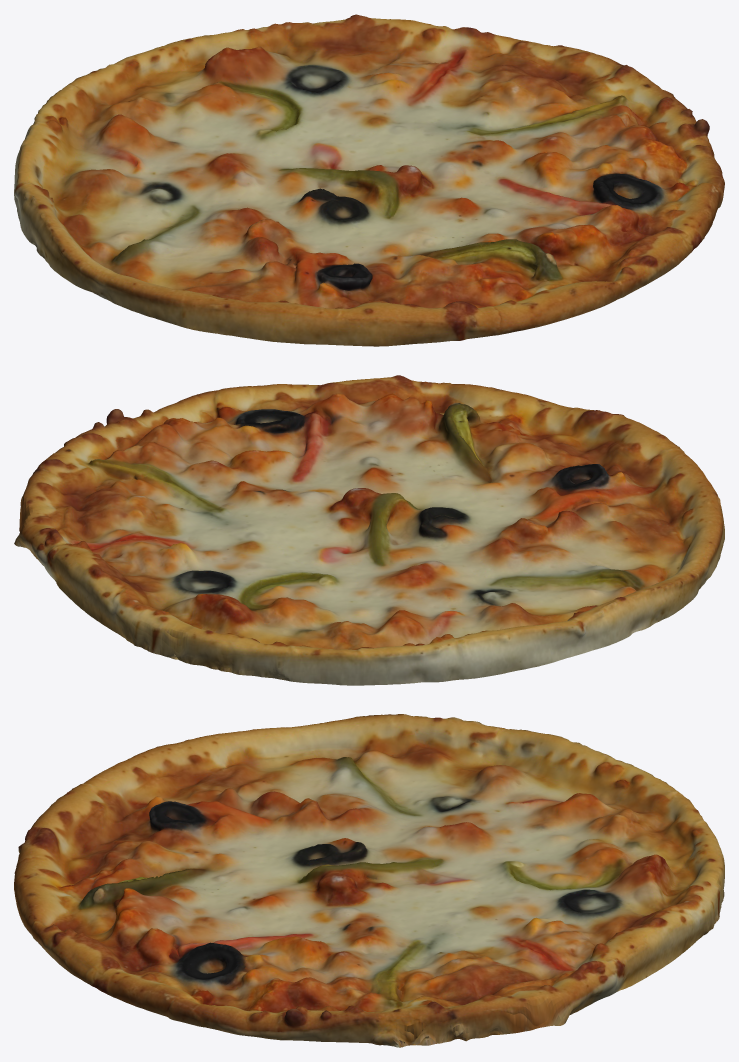
Rendered from pizza.glb.
The picture shows the model from 3 angles, top to bottom: view 1: azimuth 30°, elevation 25°; view 2: azimuth 150°, elevation 25°; view 3: azimuth 270°, elevation 25°; orthographic projection.
Parts seen in each view (by area): view 1: 3DModel_Custom; view 2: 3DModel_Custom; view 3: 3DModel_Custom.
Boxes of the visible parts, box(x1,y1,x2,y2) form: 3DModel_Custom: box(14, 14, 724, 346); 3DModel_Custom: box(14, 375, 724, 685); 3DModel_Custom: box(14, 714, 724, 1047).
Size of the model in its own units: 0.9636 by 0.0624 by 0.9493.
Materials: 1 (1 with a texture image).
